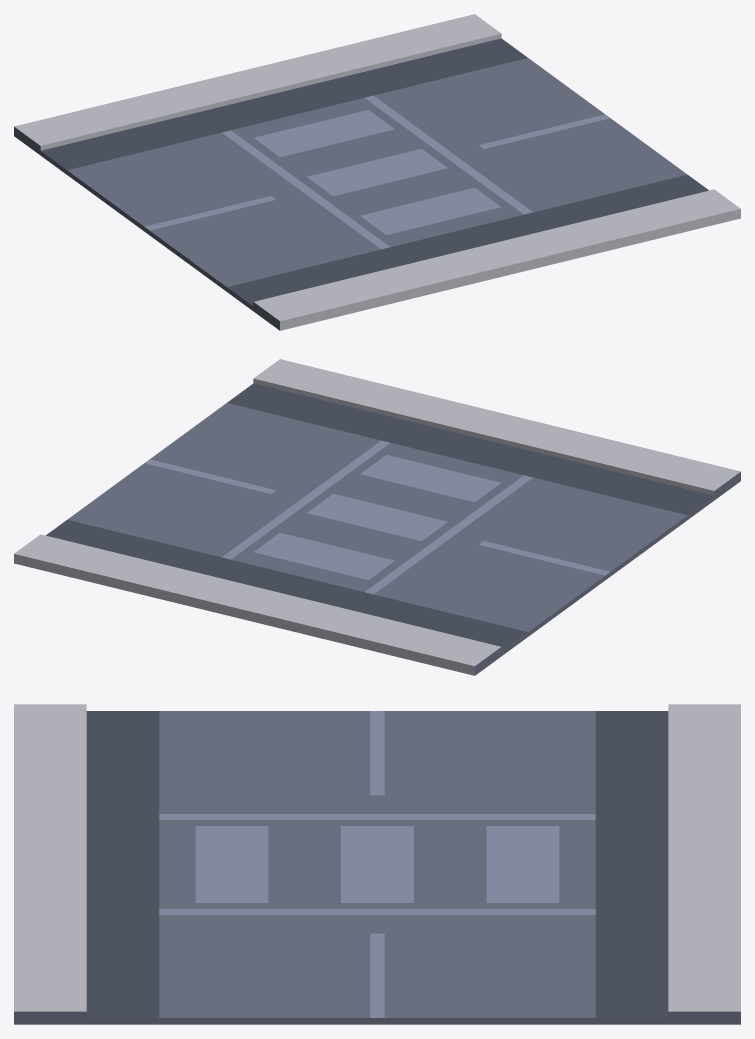
File: road_crossing.glb
The picture shows the model from 3 angles, top to bottom: view 1: azimuth 30°, elevation 25°; view 2: azimuth 150°, elevation 25°; view 3: azimuth 270°, elevation 25°; orthographic projection. The views are drawn at different scales.
Visible parts, largest first — view 1: road_crossing_9a6c80, road_crossing_af59c2, road_crossing_9d9968, road_crossing_822b14; view 2: road_crossing_9a6c80, road_crossing_af59c2, road_crossing_9d9968, road_crossing_822b14; view 3: road_crossing_9a6c80, road_crossing_9d9968, road_crossing_af59c2, road_crossing_822b14.
Part boxes in pixels (x1,y1,x2,y2): road_crossing_9a6c80: (14,58,687,330); road_crossing_af59c2: (14,14,740,330); road_crossing_9d9968: (41,38,708,305); road_crossing_822b14: (144,95,610,249); road_crossing_9a6c80: (67,403,740,675); road_crossing_af59c2: (14,359,740,675); road_crossing_9d9968: (46,383,713,650); road_crossing_822b14: (144,440,610,594); road_crossing_9a6c80: (14,711,740,1024); road_crossing_9d9968: (86,711,668,1017); road_crossing_af59c2: (14,704,740,1011); road_crossing_822b14: (159,711,595,1017).
Bounding box in the file's own units: 1 × 0.02 × 1.
